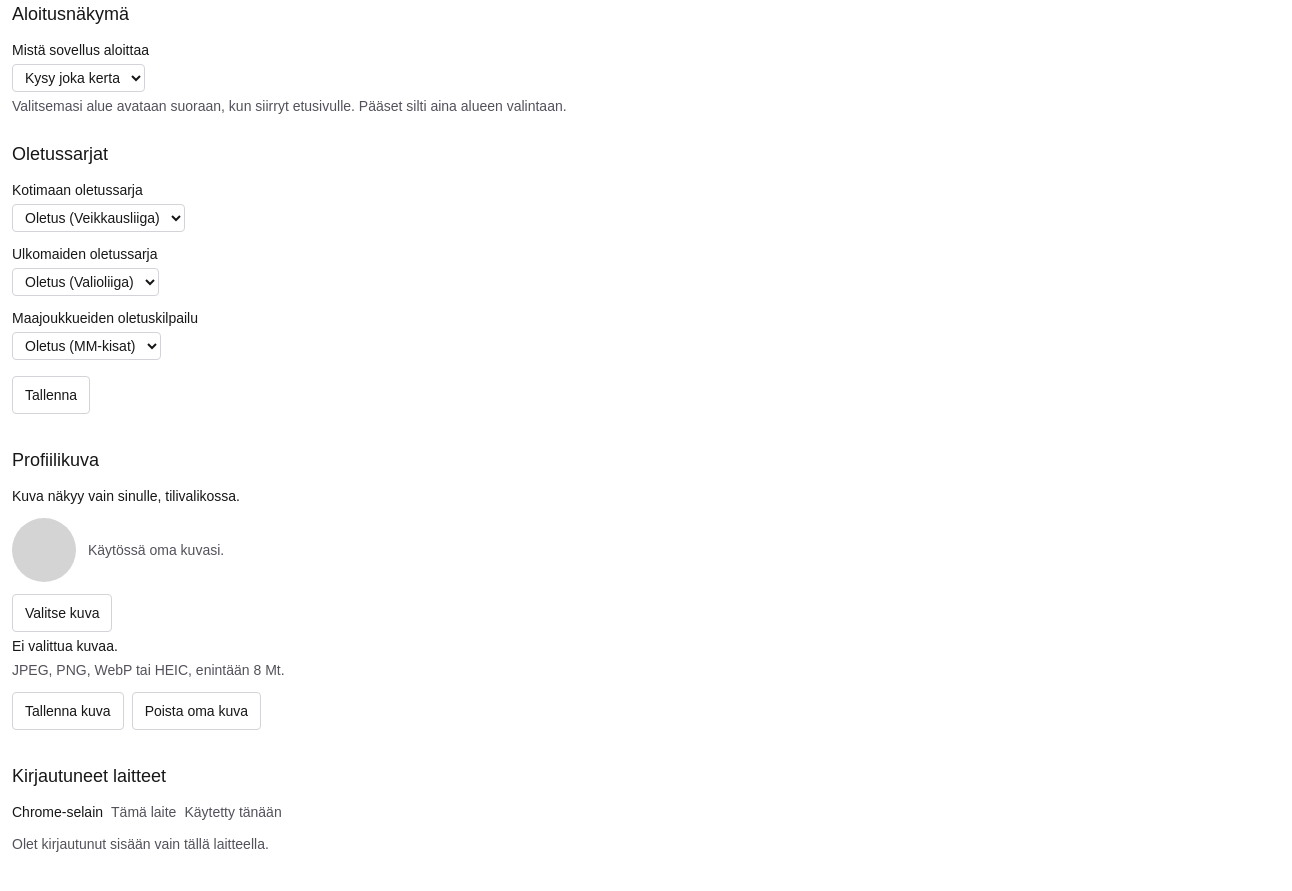
Profiilikuva › falls back to the Google picture when the reader removes their own
The width and height of the screenshot is (1292, 891).
Click the button "Poista oma kuva" at (196, 711), box top-left (132, 692), bottom-right (261, 730)
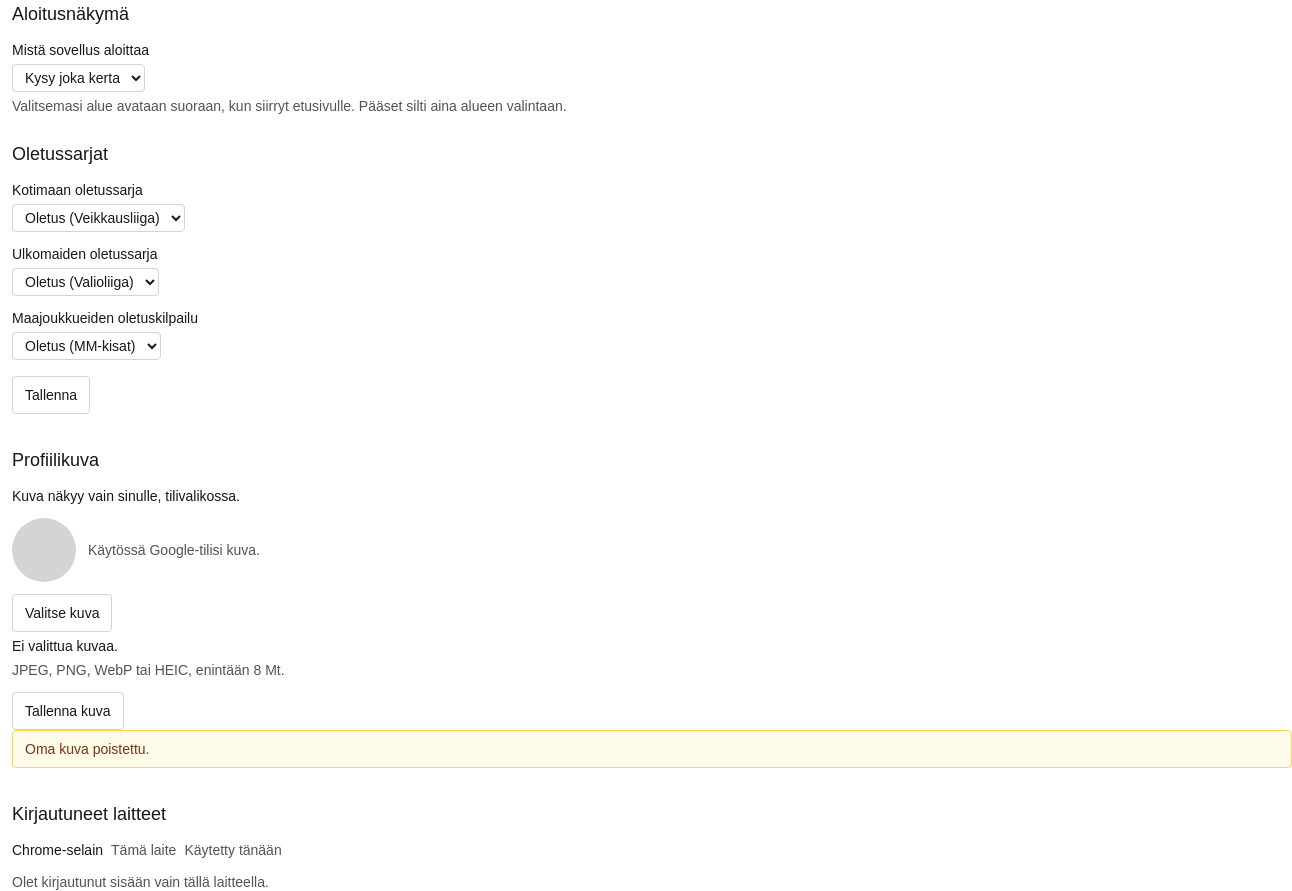
Now the text "Oma kuva poistettu." is shown, box top-left (12, 730), bottom-right (1291, 768)
Now the text "Käytössä Google-tilisi kuva." is shown, box top-left (88, 540), bottom-right (260, 560)
